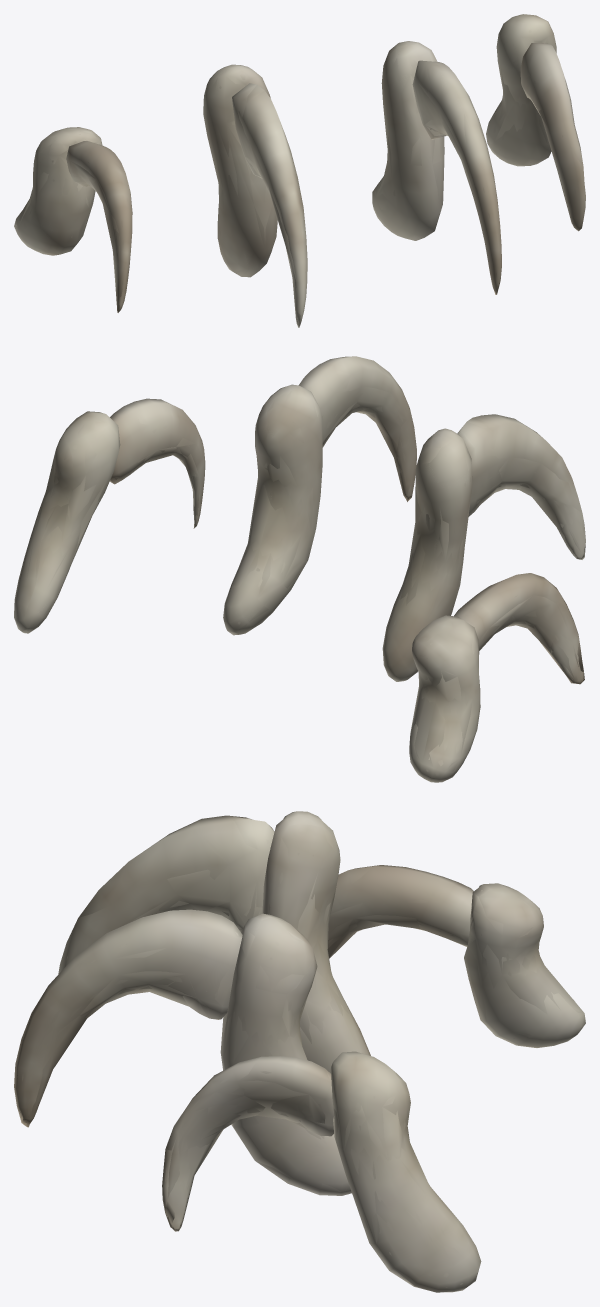
The model's file is RB 3rd Phalanx.fbx.
3 views of the same model, one above another, from view 1: azimuth 30°, elevation 25°; view 2: azimuth 150°, elevation 25°; view 3: azimuth 270°, elevation 25° (orthographic). The views are drawn at different scales.
Parts seen in each view (by area): view 1: RB 3rd Phalanx, RB 3rd Phalanx low, RB 3rd Phalanx high; view 2: RB 3rd Phalanx, RB 3rd Phalanx low, RB 3rd Phalanx high; view 3: RB 3rd Phalanx, RB 3rd Phalanx low, RB 3rd Phalanx high.
Boxes of the visible parts, bbox=[...] form: RB 3rd Phalanx: bbox=[14, 14, 585, 327]; RB 3rd Phalanx low: bbox=[14, 15, 583, 326]; RB 3rd Phalanx high: bbox=[19, 29, 577, 304]; RB 3rd Phalanx: bbox=[14, 356, 585, 782]; RB 3rd Phalanx low: bbox=[14, 357, 585, 778]; RB 3rd Phalanx high: bbox=[18, 378, 581, 776]; RB 3rd Phalanx: bbox=[14, 811, 585, 1292]; RB 3rd Phalanx low: bbox=[15, 811, 584, 1291]; RB 3rd Phalanx high: bbox=[19, 813, 575, 1291].
Bounding box in the file's own units: 1.88 × 0.878 × 1.58.
Materials: 1 (1 with a texture image).
